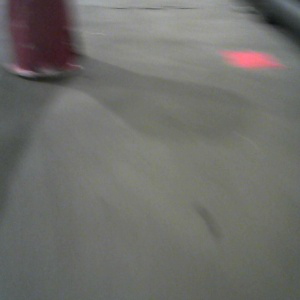Middle: (4, 1, 84, 79)
